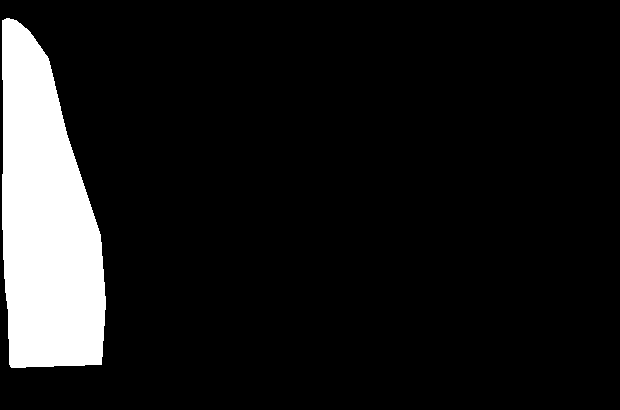type5: (2, 15, 108, 369)
